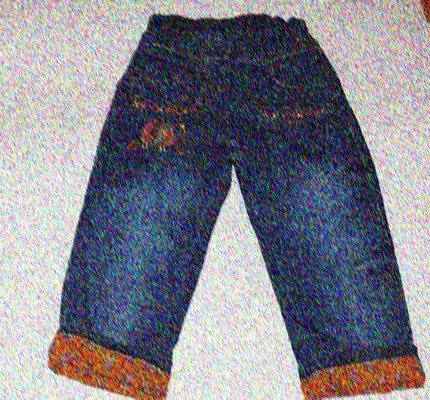Pants: (58, 15, 415, 400)
